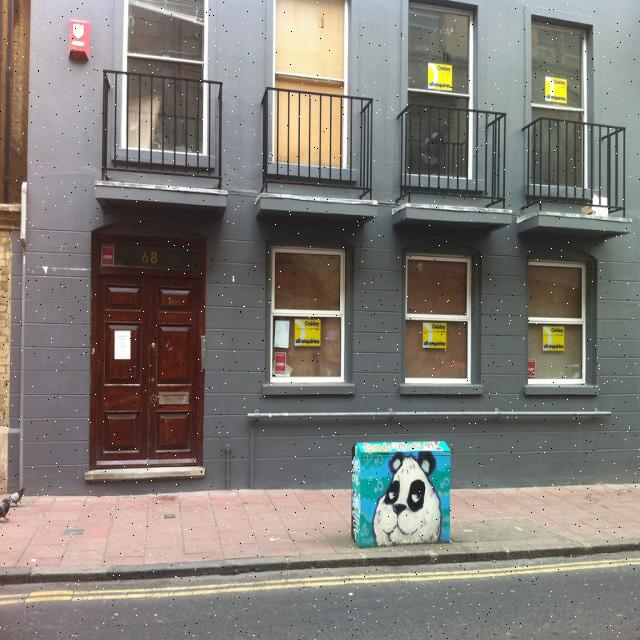panda: (374, 446, 440, 546)
